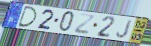0: (58, 11, 76, 34)
2: (95, 16, 116, 39), (36, 8, 55, 31)
D: (17, 5, 38, 28)
J: (116, 19, 134, 39)
Z: (73, 13, 96, 36)
